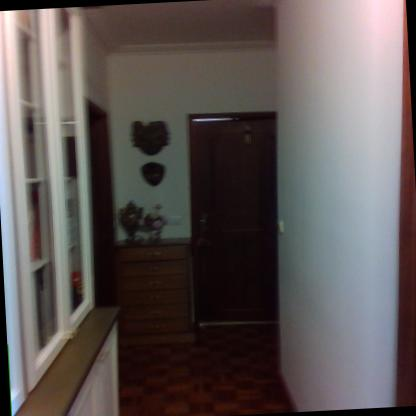closed: (178, 104, 296, 334)
